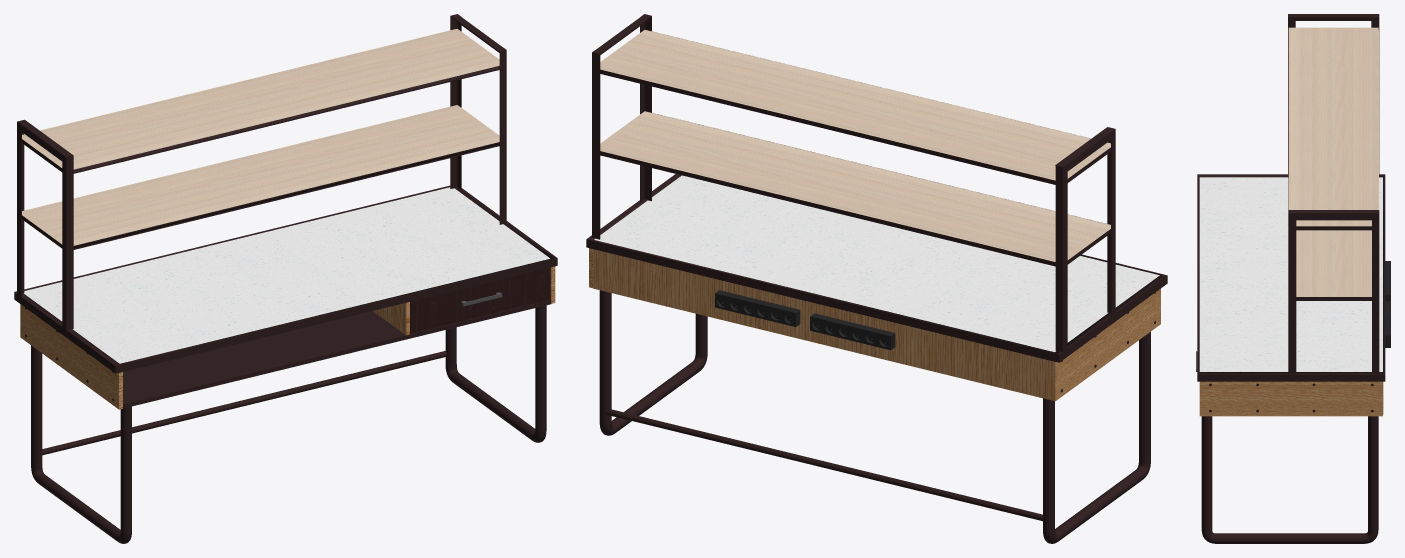
The model's file is Biurko.fbx.
3 renders of one model, left to right at view 1: azimuth 30°, elevation 25°; view 2: azimuth 150°, elevation 25°; view 3: azimuth 270°, elevation 25°, orthographic. The views are drawn at different scales.
Visible parts, largest first — view 1: Cube.005, 4, 3, Noga, 4.001, 6, 1, 5; view 2: Cube.005, 4, 0, Noga, 4.001, 1; view 3: Cube.005, 4, 2, Noga, 4.001.
Part boxes in pixels (box(x1,y1,x2,y2)): Cube.005: box(17, 14, 506, 333); 4: box(24, 187, 549, 363); 3: box(123, 299, 551, 408); Noga: box(31, 305, 546, 543); 4.001: box(14, 185, 557, 373); 6: box(410, 267, 550, 333); 1: box(20, 304, 122, 409); 5: box(373, 302, 409, 335); Cube.005: box(592, 14, 1115, 355); 4: box(594, 175, 1159, 352); 0: box(593, 249, 1054, 401); Noga: box(599, 290, 1150, 543); 4.001: box(586, 174, 1167, 362); 1: box(1055, 288, 1160, 401); Cube.005: box(1288, 14, 1379, 373); 4: box(1199, 177, 1382, 371); 2: box(1199, 381, 1382, 416); Noga: box(1201, 416, 1378, 543); 4.001: box(1197, 174, 1385, 381).
Bounding box in the file's own units: 204 × 159 × 84.07.
Materials: 9 (5 with a texture image).
